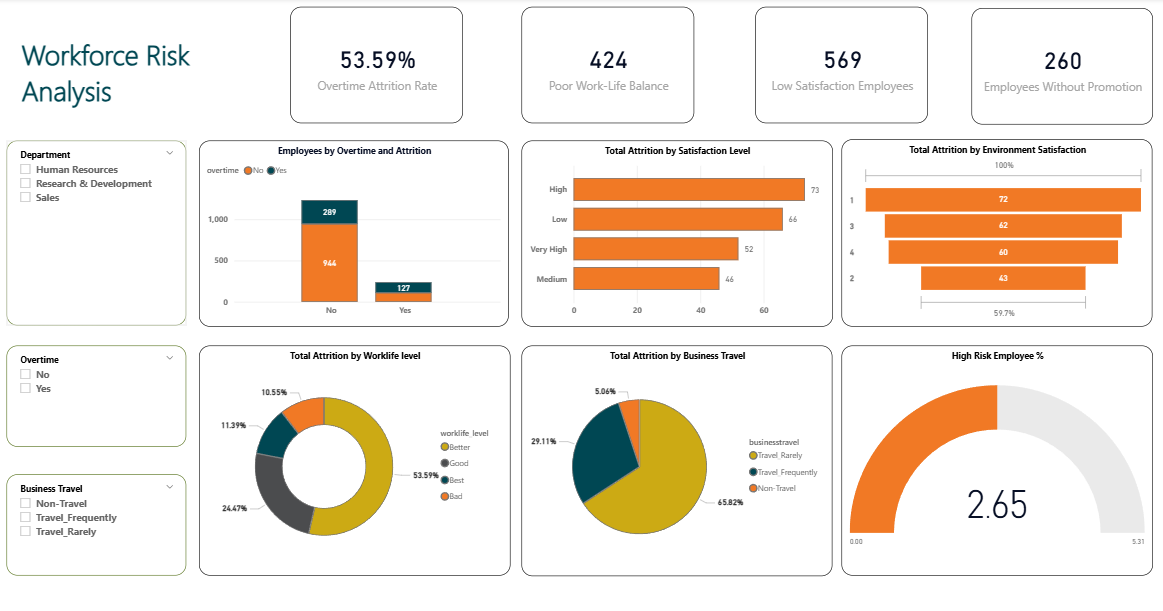

This screenshot's page, from the dashboard's own definition file:
{"tool":"powerbi","page":{"name":"Workforce Risk","canvas":[1600,900],"ordinal":3},"visuals":[{"type":"columnChart","title":"Employees by Overtime and Attrition","fields":{"Category":["public employee_attrition.attrition"],"Series":["public employee_attrition.overtime"],"Y":["CountNonNull(public employee_attrition.employeenumber)"]},"box":[279.4,194.4,423.6,254.5],"z":0},{"type":"clusteredBarChart","title":"Total Attrition by Satisfaction Level","fields":{"Category":["public vw_employee_analysis.satisfaction_level"],"Y":["Measure_Table.Total Attrition"]},"box":[720.1,194.4,425.3,254.5],"z":1000},{"type":"donutChart","title":"Total Attrition by Worklife level","fields":{"Category":["public vw_employee_analysis.worklife_level"],"Y":["Measure_Table.Total Attrition"]},"box":[279.4,474.5,425.3,314.3],"z":2000},{"type":"pieChart","title":"Total Attrition by Business Travel","fields":{"Category":["public employee_attrition.businesstravel"],"Y":["Measure_Table.Total Attrition"]},"box":[720.1,474.5,425,315],"z":3000},{"type":"funnel","title":"Total Attrition by Environment Satisfaction","fields":{"Category":["public employee_attrition.environmentsatisfaction"],"Y":["Measure_Table.Total Attrition"]},"box":[1157.3,192.7,425,256.2],"z":4000},{"type":"gauge","fields":{"Y":["Measure_Table.High Risk Employee %"]},"box":[1157.3,474.5,425.3,314.3],"z":5000},{"type":"card","fields":{"Values":["Measure_Table.Overtime Attrition Rate"]},"box":[404.8,12,235.7,158.8],"z":6000},{"type":"card","fields":{"Values":["Measure_Table.Low Satisfaction Employees"]},"box":[1040.1,12,235.7,158.8],"z":6001},{"type":"card","fields":{"Values":["Measure_Table.Employees With Poor Work Life Balance"]},"box":[720.8,12,235.7,158.8],"z":6002},{"type":"card","fields":{"Values":["Measure_Table.Employees Without Promotion"]},"box":[1335.6,13.7,247.7,158.8],"z":6003},{"type":"textbox","box":[32.5,46.1,305.7,124.7],"z":6004},{"type":"slicer","fields":{"Values":["public employee_attrition.department"]},"box":[17.1,194.7,245.9,252.8],"z":6005},{"type":"slicer","fields":{"Values":["public employee_attrition.overtime"]},"box":[17.1,474.8,245.9,138.3],"z":6006},{"type":"slicer","fields":{"Values":["public employee_attrition.businesstravel"]},"box":[17.1,650.7,245.9,138.3],"z":6007}]}

Visuals, with their boxes on the page's 1600x900 design canvas (x1, y1, x2, y2). These are canvas units, not pixel positions in the 1163x611 screenshot, which may show the page scaled, cropped or inside an application window:
"Employees by Overtime and Attrition" columnChart: {"left": 279, "top": 194, "right": 703, "bottom": 449}
"Total Attrition by Satisfaction Level" clusteredBarChart: {"left": 720, "top": 194, "right": 1145, "bottom": 449}
"Total Attrition by Worklife level" donutChart: {"left": 279, "top": 474, "right": 705, "bottom": 789}
"Total Attrition by Business Travel" pieChart: {"left": 720, "top": 474, "right": 1145, "bottom": 790}
"Total Attrition by Environment Satisfaction" funnel: {"left": 1157, "top": 193, "right": 1582, "bottom": 449}
gauge - Measure_Table.High Risk Employee %: {"left": 1157, "top": 474, "right": 1583, "bottom": 789}
card - Measure_Table.Overtime Attrition Rate: {"left": 405, "top": 12, "right": 640, "bottom": 171}
card - Measure_Table.Low Satisfaction Employees: {"left": 1040, "top": 12, "right": 1276, "bottom": 171}
card - Measure_Table.Employees With Poor Work Life Balance: {"left": 721, "top": 12, "right": 956, "bottom": 171}
card - Measure_Table.Employees Without Promotion: {"left": 1336, "top": 14, "right": 1583, "bottom": 172}
textbox: {"left": 32, "top": 46, "right": 338, "bottom": 171}
slicer - public employee_attrition.department: {"left": 17, "top": 195, "right": 263, "bottom": 448}
slicer - public employee_attrition.overtime: {"left": 17, "top": 475, "right": 263, "bottom": 613}
slicer - public employee_attrition.businesstravel: {"left": 17, "top": 651, "right": 263, "bottom": 789}
